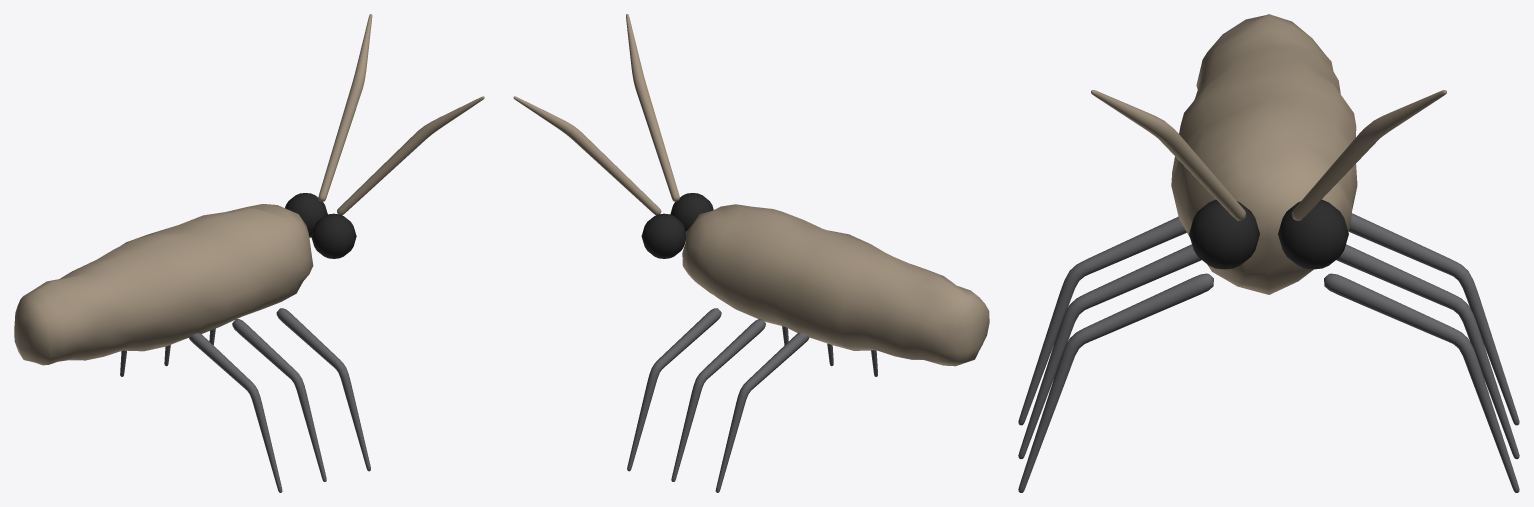
Rendered from SM_Deathmoth_Body.fbx.
3 views of the same model, side by side, from view 1: azimuth 30°, elevation 25°; view 2: azimuth 150°, elevation 25°; view 3: azimuth 270°, elevation 25° (orthographic). The views are drawn at different scales.
Parts seen in each view (by area): view 1: SM_Deathmoth_Body; view 2: SM_Deathmoth_Body; view 3: SM_Deathmoth_Body.
Boxes of the visible parts, x1=… form: SM_Deathmoth_Body: x1=14, y1=14, x2=484, y2=492; SM_Deathmoth_Body: x1=513, y1=14, x2=989, y2=492; SM_Deathmoth_Body: x1=1018, y1=14, x2=1519, y2=492.
Bounding box in the file's own units: 83.08 × 62.97 × 56.36.
